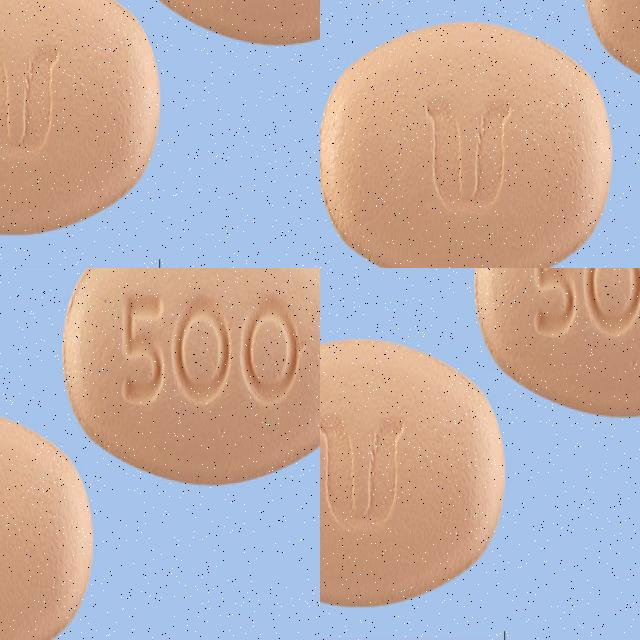Isentress: (65, 268, 320, 479), (0, 402, 91, 640)
Levicin: (467, 107, 639, 268)
Levo F: (320, 334, 505, 605), (475, 268, 640, 416)
Shuclari Tab: (3, 20, 201, 268)
